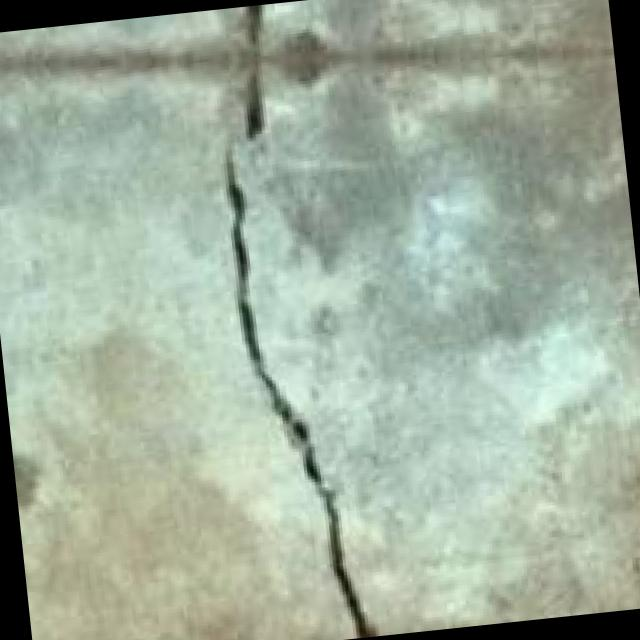crack: (111, 0, 432, 640)
